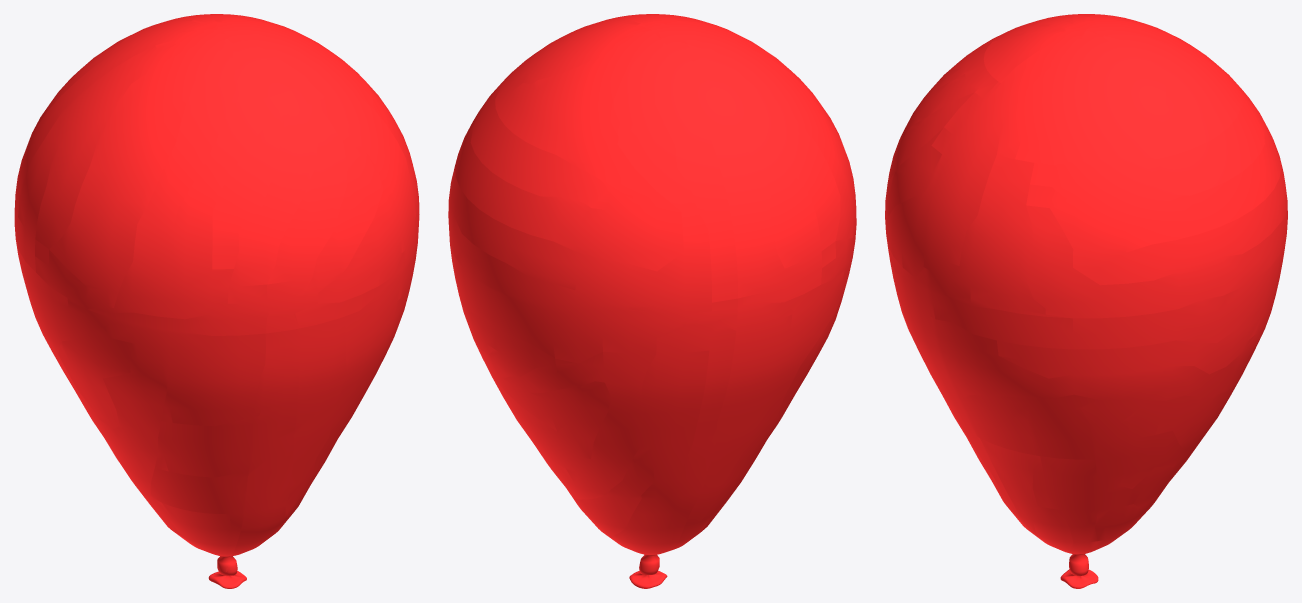
Rendered from balloon.gltf.
3 renders of one model, left to right at view 1: azimuth 30°, elevation 25°; view 2: azimuth 150°, elevation 25°; view 3: azimuth 270°, elevation 25°, orthographic.
Visible parts, largest first — view 1: Sphere; view 2: Sphere; view 3: Sphere.
Part boxes in pixels (x1,y1,x2,y2): Sphere: (14,14,419,588); Sphere: (448,14,856,588); Sphere: (885,14,1287,588).
Size of the model in its own units: 1.91 by 2.87 by 1.91.
